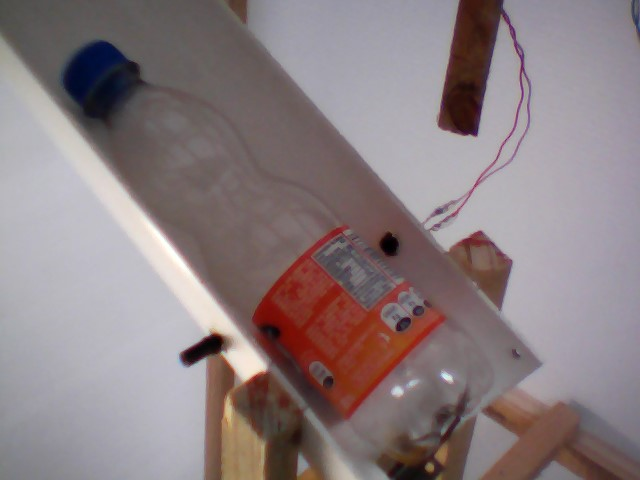plastico: (54, 28, 504, 480)
